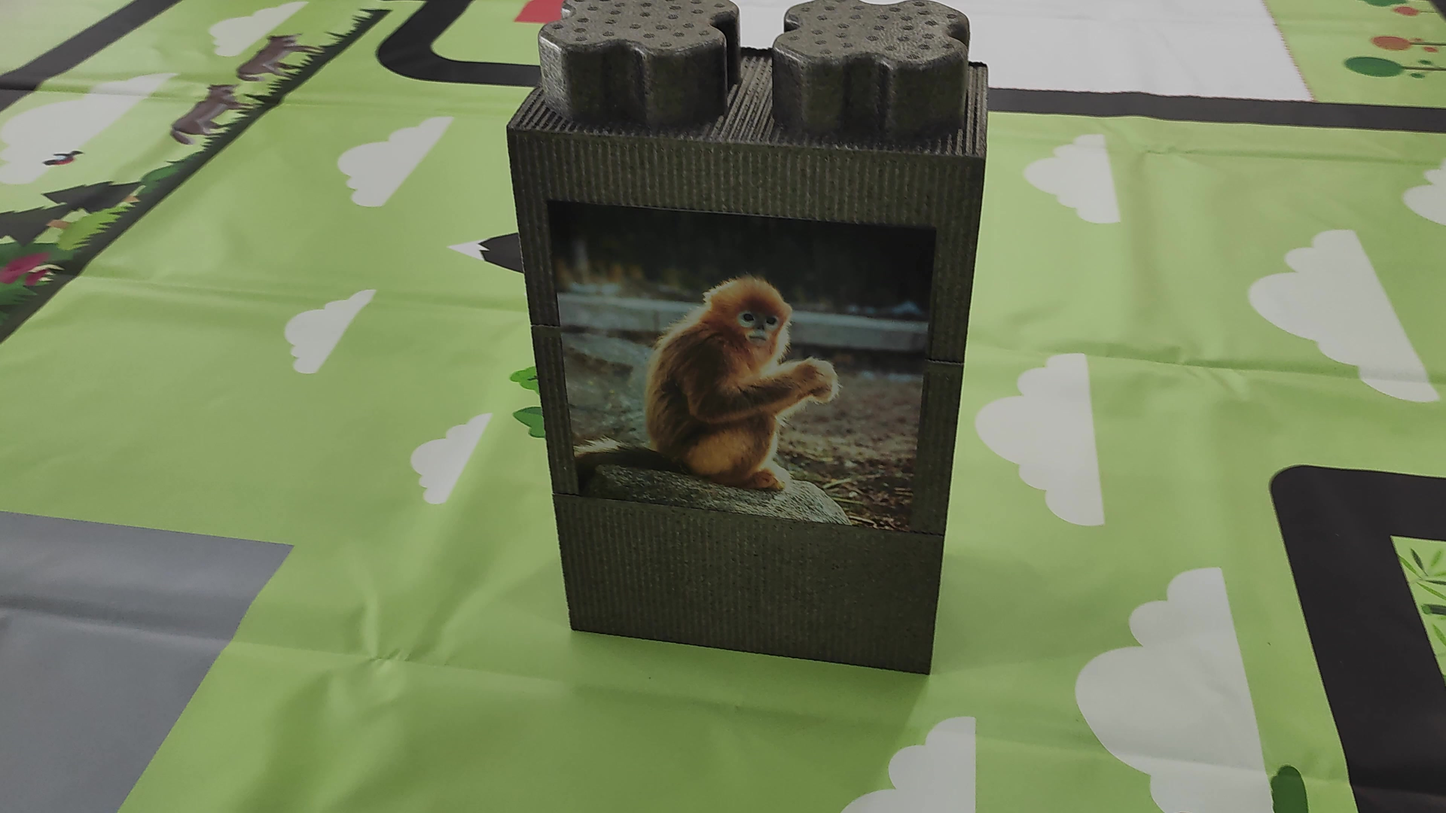monkey: (589, 225, 885, 516)
